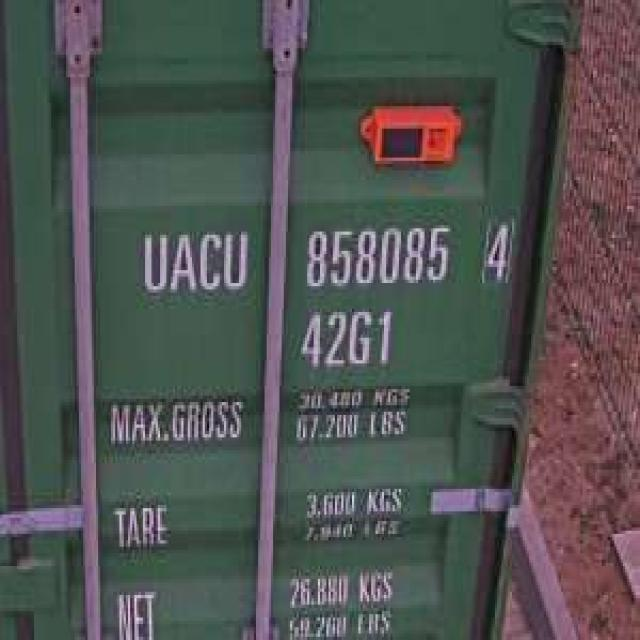dv: (476, 206, 514, 289)
owner: (136, 219, 252, 302)
serial: (299, 212, 454, 293)
size: (294, 303, 397, 377)
